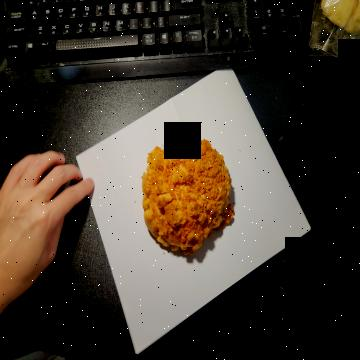soboru_bread: (141, 135, 234, 253)
